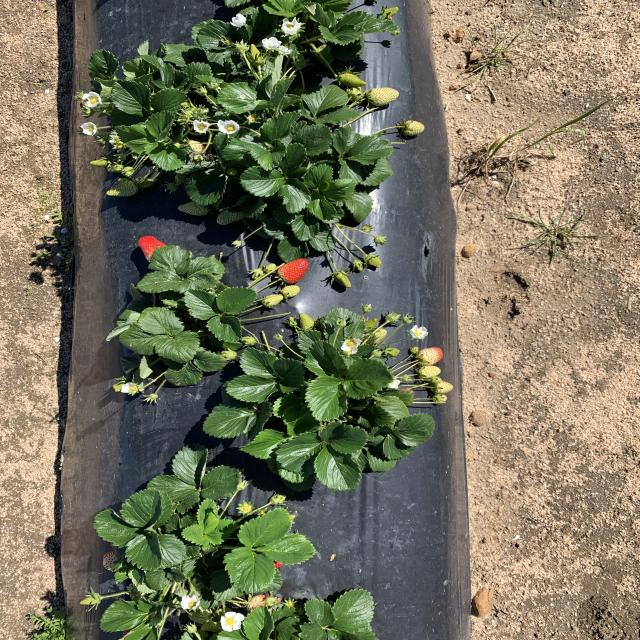unripe: (136, 234, 174, 265), (277, 257, 309, 286)
